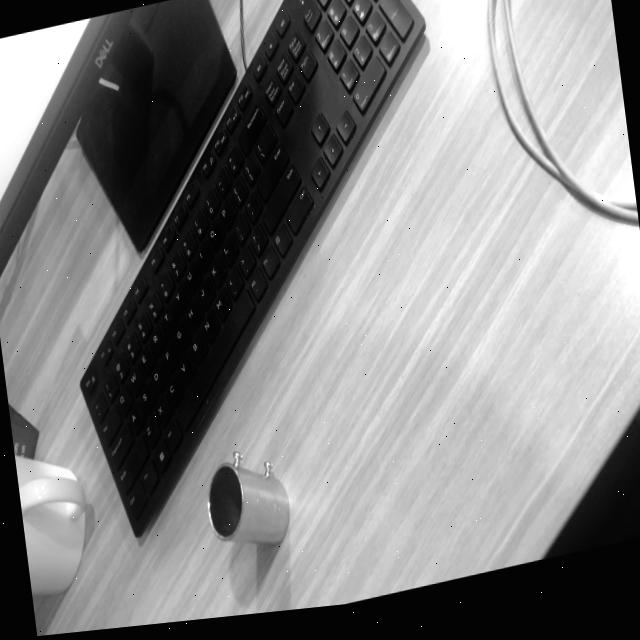Co_Lon: (204, 448, 294, 545)
